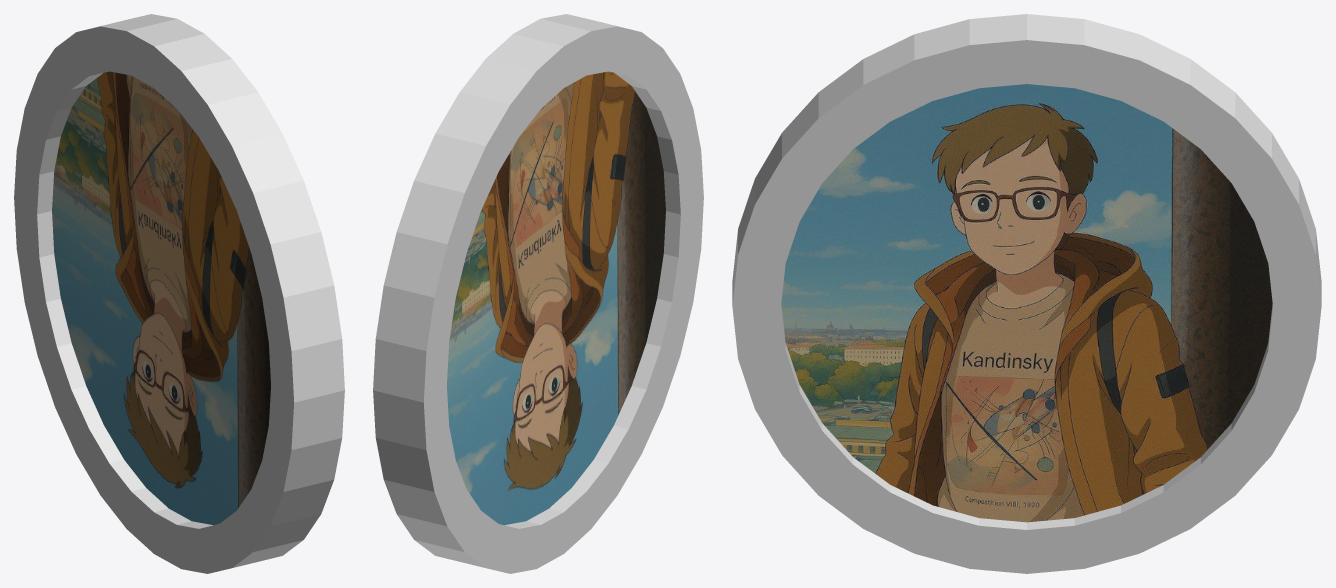
The model's file is coin.glb.
The picture shows the model from 3 angles, left to right: view 1: azimuth 30°, elevation 25°; view 2: azimuth 150°, elevation 25°; view 3: azimuth 270°, elevation 25°; orthographic projection. The views are drawn at different scales.
Visible parts, largest first — view 1: Cylinder; view 2: Cylinder; view 3: Cylinder.
Boxes of the visible parts, x1=… form: Cylinder: x1=14, y1=14, x2=344, y2=573; Cylinder: x1=373, y1=14, x2=703, y2=573; Cylinder: x1=732, y1=14, x2=1321, y2=573.
Size of the model in its own units: 0.4813 by 4.6 by 4.6.
2 materials, 1 textured.
